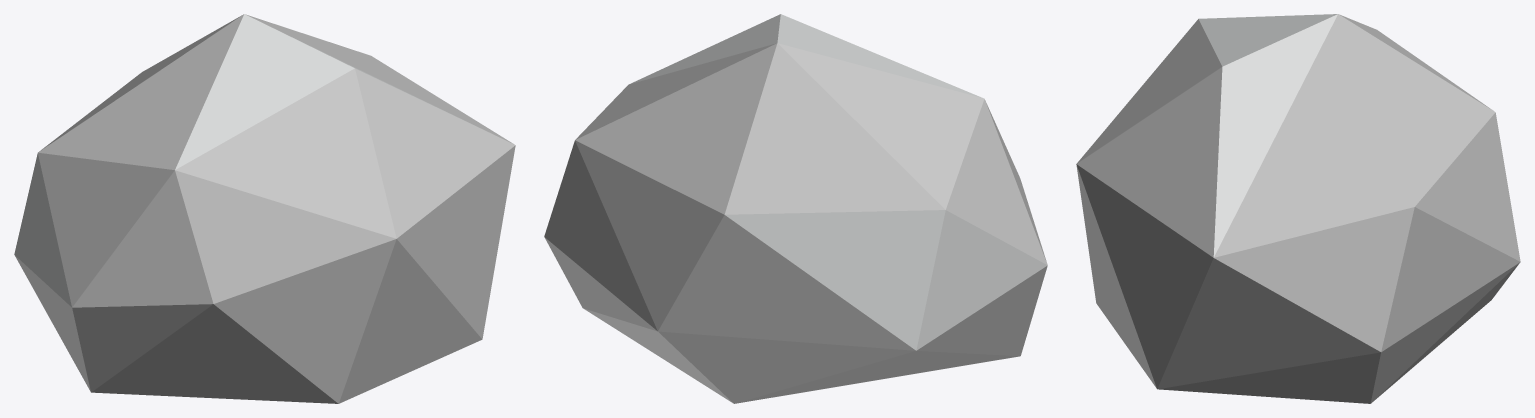
Rendered from stone_11.fbx.
The picture shows the model from 3 angles, left to right: view 1: azimuth 30°, elevation 25°; view 2: azimuth 150°, elevation 25°; view 3: azimuth 270°, elevation 25°; orthographic projection.
Visible parts, largest first — view 1: stone_11; view 2: stone_11; view 3: stone_11.
Part boxes in pixels (x1,y1,x2,y2): stone_11: [14, 14, 515, 403]; stone_11: [544, 14, 1047, 403]; stone_11: [1076, 14, 1520, 403].
Bounding box in the file's own units: 70.11 × 46.01 × 61.32.
